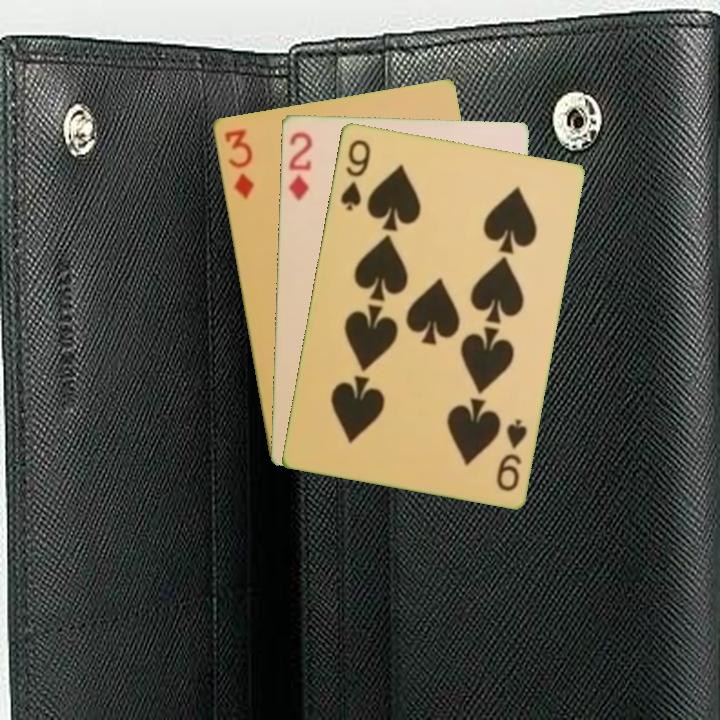2d: (285, 128, 315, 203)
3d: (220, 125, 256, 202)
9s: (492, 415, 530, 494), (336, 135, 373, 213)
